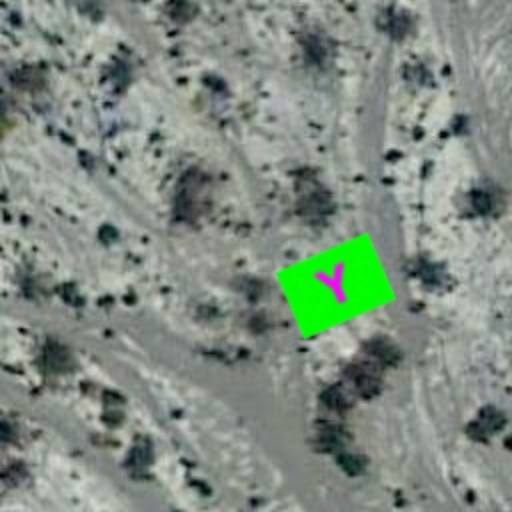rectangle: (268, 218, 404, 354)
